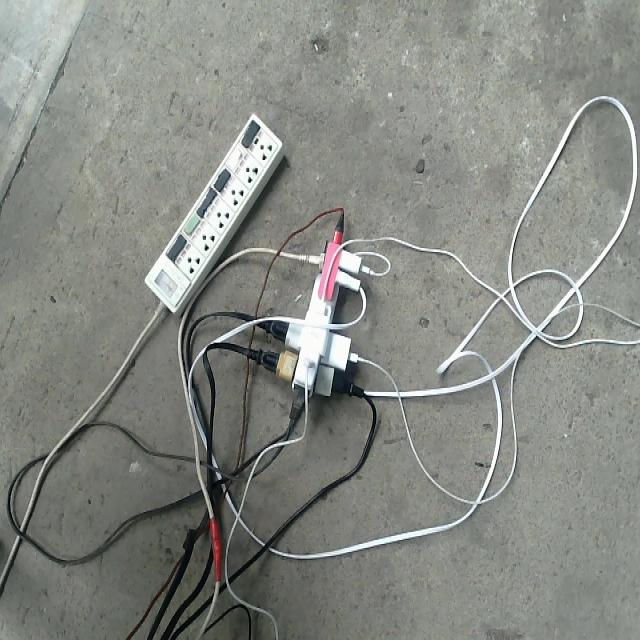-: (273, 236, 367, 400)
